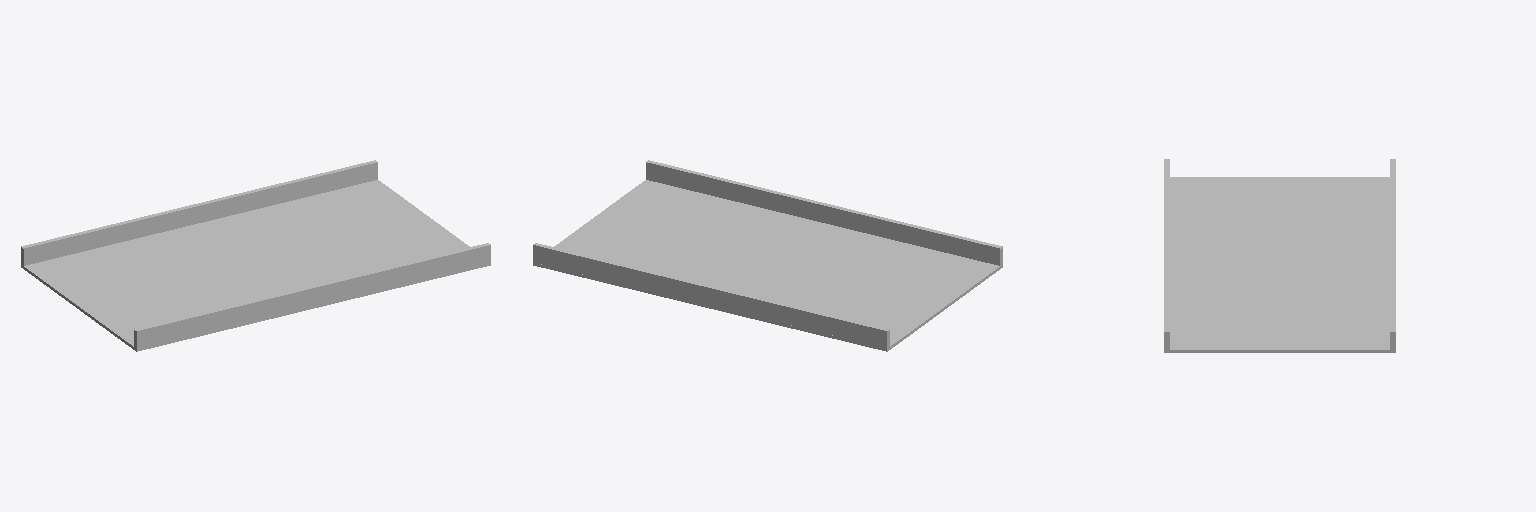
The model's file is Range.obj.
3 renders of one model, left to right at view 1: azimuth 30°, elevation 25°; view 2: azimuth 150°, elevation 25°; view 3: azimuth 270°, elevation 25°, orthographic.
Visible parts, largest first — view 1: polySurface8; view 2: polySurface8; view 3: polySurface8.
Part boxes in pixels (left/top/right/bottom): polySurface8: left=21, top=160, right=490, bottom=351; polySurface8: left=533, top=160, right=1002, bottom=351; polySurface8: left=1164, top=159, right=1395, bottom=352.
Size of the model in its own units: 13.96 by 0.7724 by 7.89.